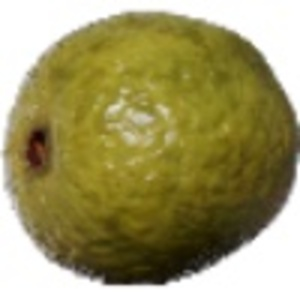goiaba: (3, 6, 295, 287)
